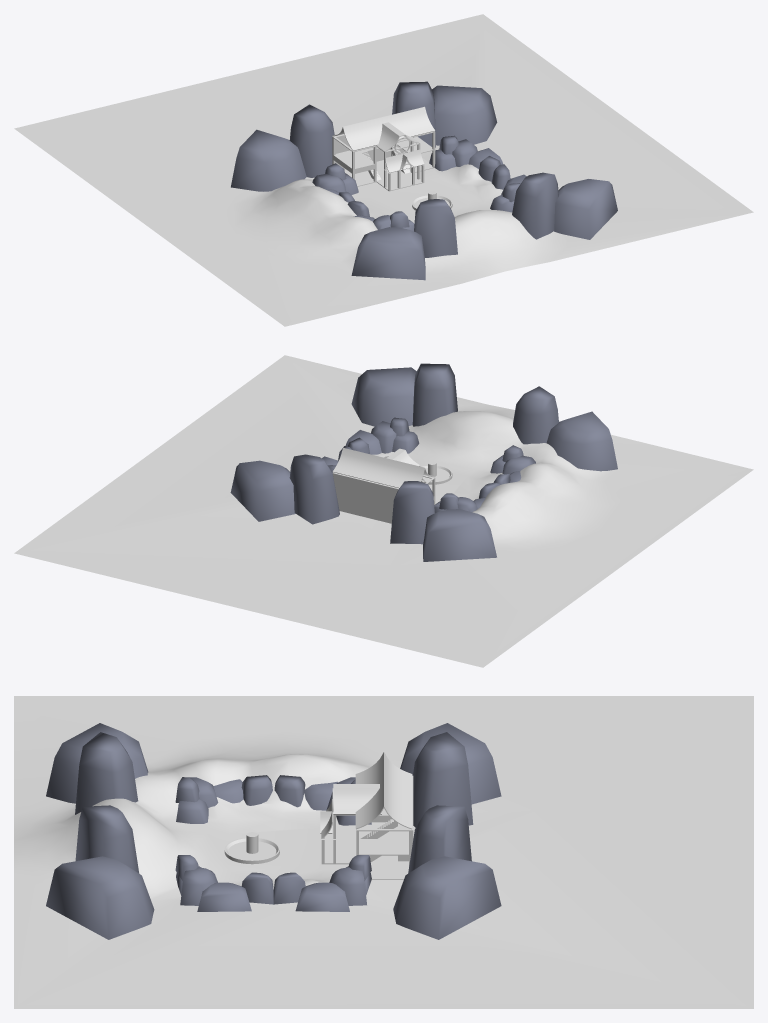
File: house_greybox.glb
3 renders of one model, top to bottom at view 1: azimuth 30°, elevation 25°; view 2: azimuth 150°, elevation 25°; view 3: azimuth 270°, elevation 25°, orthographic. The views are drawn at different scales.
Parts seen in each view (by area): view 1: BAKE, Rock.006, Rock.005, FloorPlate.011, Rock.001, Rock.004, Rock.002, Rock, FloorPlate, Rock.003, FloorPlate.007, FloorPlate.009; view 2: BAKE, Rock.006, Rock.005, Cube, FloorPlate.011, Rock.001, Rock.002, Rock.003, Rock, Rock.004; view 3: BAKE, Rock.006, Rock.005, Rock.003, Rock.004, FloorPlate.011, Rock.001, Cylinder, Rock.002, FloorPlate.009, Rock, FloorPlate (+1 smaller).
Part boxes in pixels (left/top/right/bottom): BAKE: left=14, top=14, right=753, bottom=326; Rock.006: left=231, top=85, right=617, bottom=280; Rock.005: left=289, top=81, right=558, bottom=257; FloorPlate.011: left=332, top=106, right=435, bottom=150; Rock.001: left=312, top=139, right=520, bottom=229; Rock.004: left=338, top=156, right=510, bottom=216; Rock.002: left=325, top=135, right=520, bottom=227; Rock: left=343, top=149, right=514, bottom=231; FloorPlate: left=344, top=158, right=434, bottom=186; Rock.003: left=325, top=148, right=526, bottom=221; FloorPlate.007: left=385, top=149, right=424, bottom=172; FloorPlate.009: left=376, top=122, right=419, bottom=151; BAKE: left=14, top=355, right=753, bottom=667; Rock.006: left=230, top=367, right=617, bottom=561; Rock.005: left=289, top=363, right=558, bottom=544; Cube: left=332, top=473, right=398, bottom=523; FloorPlate.011: left=332, top=447, right=435, bottom=488; Rock.001: left=327, top=421, right=535, bottom=511; Rock.002: left=328, top=417, right=523, bottom=509; Rock.003: left=322, top=430, right=521, bottom=508; Rock: left=392, top=431, right=505, bottom=512; Rock.004: left=338, top=437, right=510, bottom=498; BAKE: left=14, top=696, right=753, bottom=1008; Rock.006: left=46, top=723, right=501, bottom=939; Rock.005: left=75, top=732, right=473, bottom=873; Rock.003: left=197, top=779, right=349, bottom=911; Rock.004: left=241, top=775, right=305, bottom=904; FloorPlate.011: left=355, top=752, right=412, bottom=829; Rock.001: left=180, top=777, right=366, bottom=905; Cylinder: left=224, top=832, right=279, bottom=864; Rock.002: left=175, top=777, right=371, bottom=880; FloorPlate.009: left=333, top=784, right=381, bottom=814; Rock: left=176, top=799, right=371, bottom=895; FloorPlate: left=359, top=824, right=408, bottom=879.
Size of what is drawn, in the model's own units: 80 by 9.98 by 80.01.
